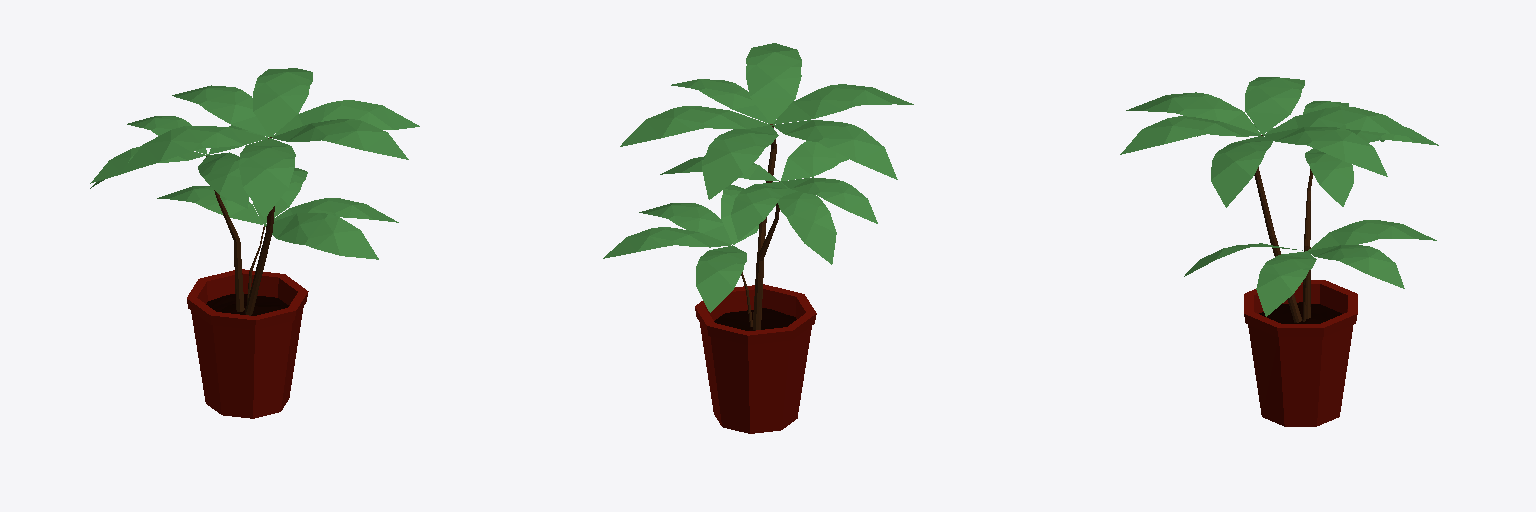
Rendered from plant.obj.
The picture shows the model from 3 angles: view 1: azimuth 30°, elevation 25°; view 2: azimuth 150°, elevation 25°; view 3: azimuth 270°, elevation 25°; orthographic projection.
Visible parts, largest first — view 1: leaf.004, pot, leaf.003, leaf.014, tige.001, tige.002; view 2: leaf.004, pot, leaf.014, leaf.003, tige.001; view 3: leaf.004, pot, leaf.003, leaf.014, tige.002, tige.001.
Part boxes in pixels (left/top/right/bottom): leaf.004: left=119, top=68, right=419, bottom=218; pot: left=187, top=269, right=308, bottom=418; leaf.003: left=157, top=168, right=398, bottom=259; leaf.014: left=90, top=116, right=262, bottom=208; tige.001: left=206, top=156, right=244, bottom=311; tige.002: left=245, top=137, right=274, bottom=315; leaf.004: left=620, top=43, right=913, bottom=199; pot: left=695, top=284, right=816, bottom=433; leaf.014: left=660, top=141, right=877, bottom=264; leaf.003: left=603, top=184, right=758, bottom=312; tige.001: left=753, top=181, right=779, bottom=330; leaf.004: left=1120, top=77, right=1422, bottom=207; pot: left=1244, top=280, right=1357, bottom=426; leaf.003: left=1184, top=220, right=1436, bottom=316; leaf.014: left=1197, top=101, right=1438, bottom=206; tige.002: left=1254, top=135, right=1301, bottom=322; tige.001: left=1303, top=169, right=1312, bottom=318.
Bounding box in the file's own units: 5.14 × 5.45 × 5.16.